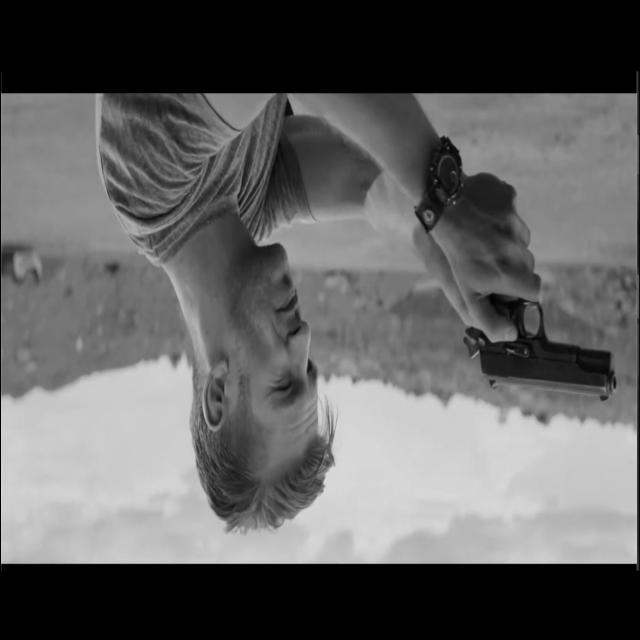weapons: (453, 256, 627, 424)
